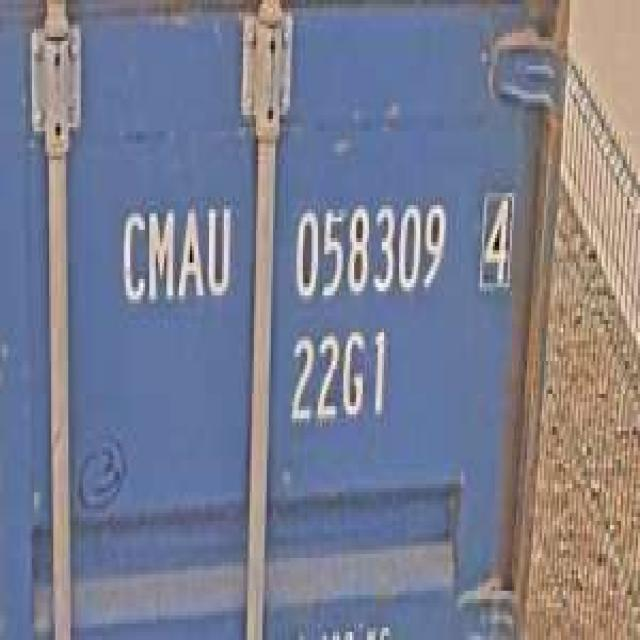dv: (472, 177, 518, 296)
owner: (113, 189, 235, 316)
serial: (286, 188, 452, 308)
size: (284, 320, 390, 435)
